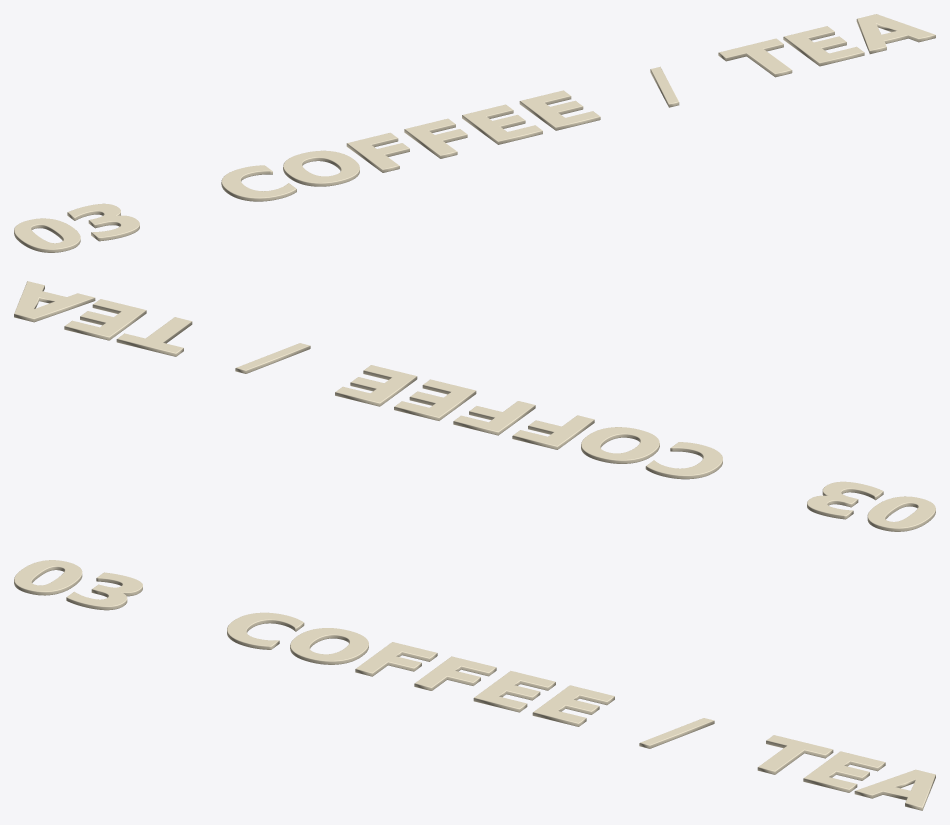
File: SM_EG_Aisle_designation_e4e292abc4.fbx
3 renders of one model, top to bottom at view 1: azimuth 30°, elevation 25°; view 2: azimuth 150°, elevation 25°; view 3: azimuth 330°, elevation 25°, orthographic. The views are drawn at different scales.
Visible parts, largest first — view 1: SM_EG_Aisle_designation_e4e292abc4; view 2: SM_EG_Aisle_designation_e4e292abc4; view 3: SM_EG_Aisle_designation_e4e292abc4.
Boxes of the visible parts, x1=… form: SM_EG_Aisle_designation_e4e292abc4: x1=14, y1=14, x2=935, y2=252; SM_EG_Aisle_designation_e4e292abc4: x1=14, y1=281, x2=935, y2=531; SM_EG_Aisle_designation_e4e292abc4: x1=14, y1=560, x2=935, y2=810.
Size of the model in its own units: 107 by 8.54 by 0.44.
